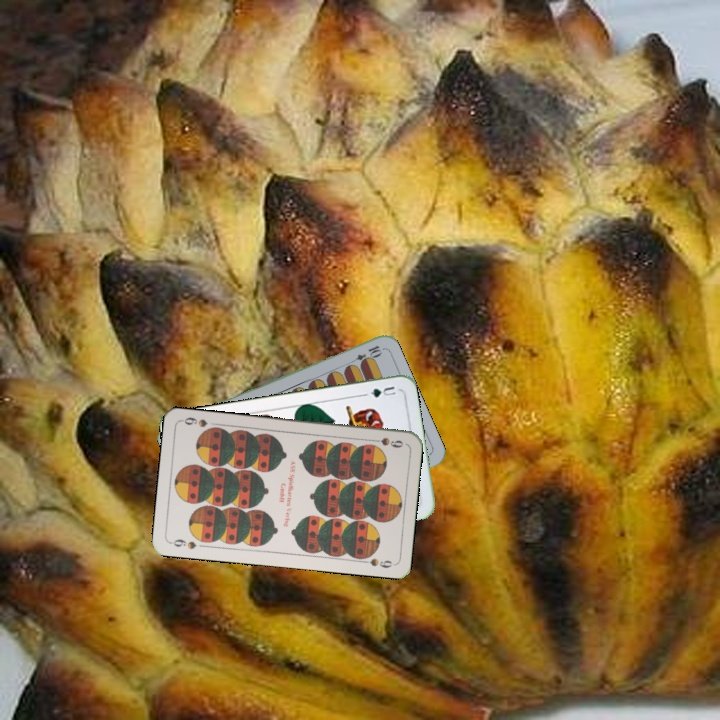E10: (345, 341, 384, 368)
GU: (366, 382, 398, 400)
S9: (366, 433, 406, 450), (166, 535, 199, 552)
